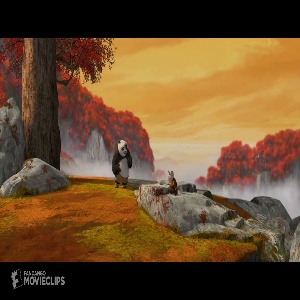po: (110, 138, 135, 189)
shifu: (166, 171, 179, 194)
